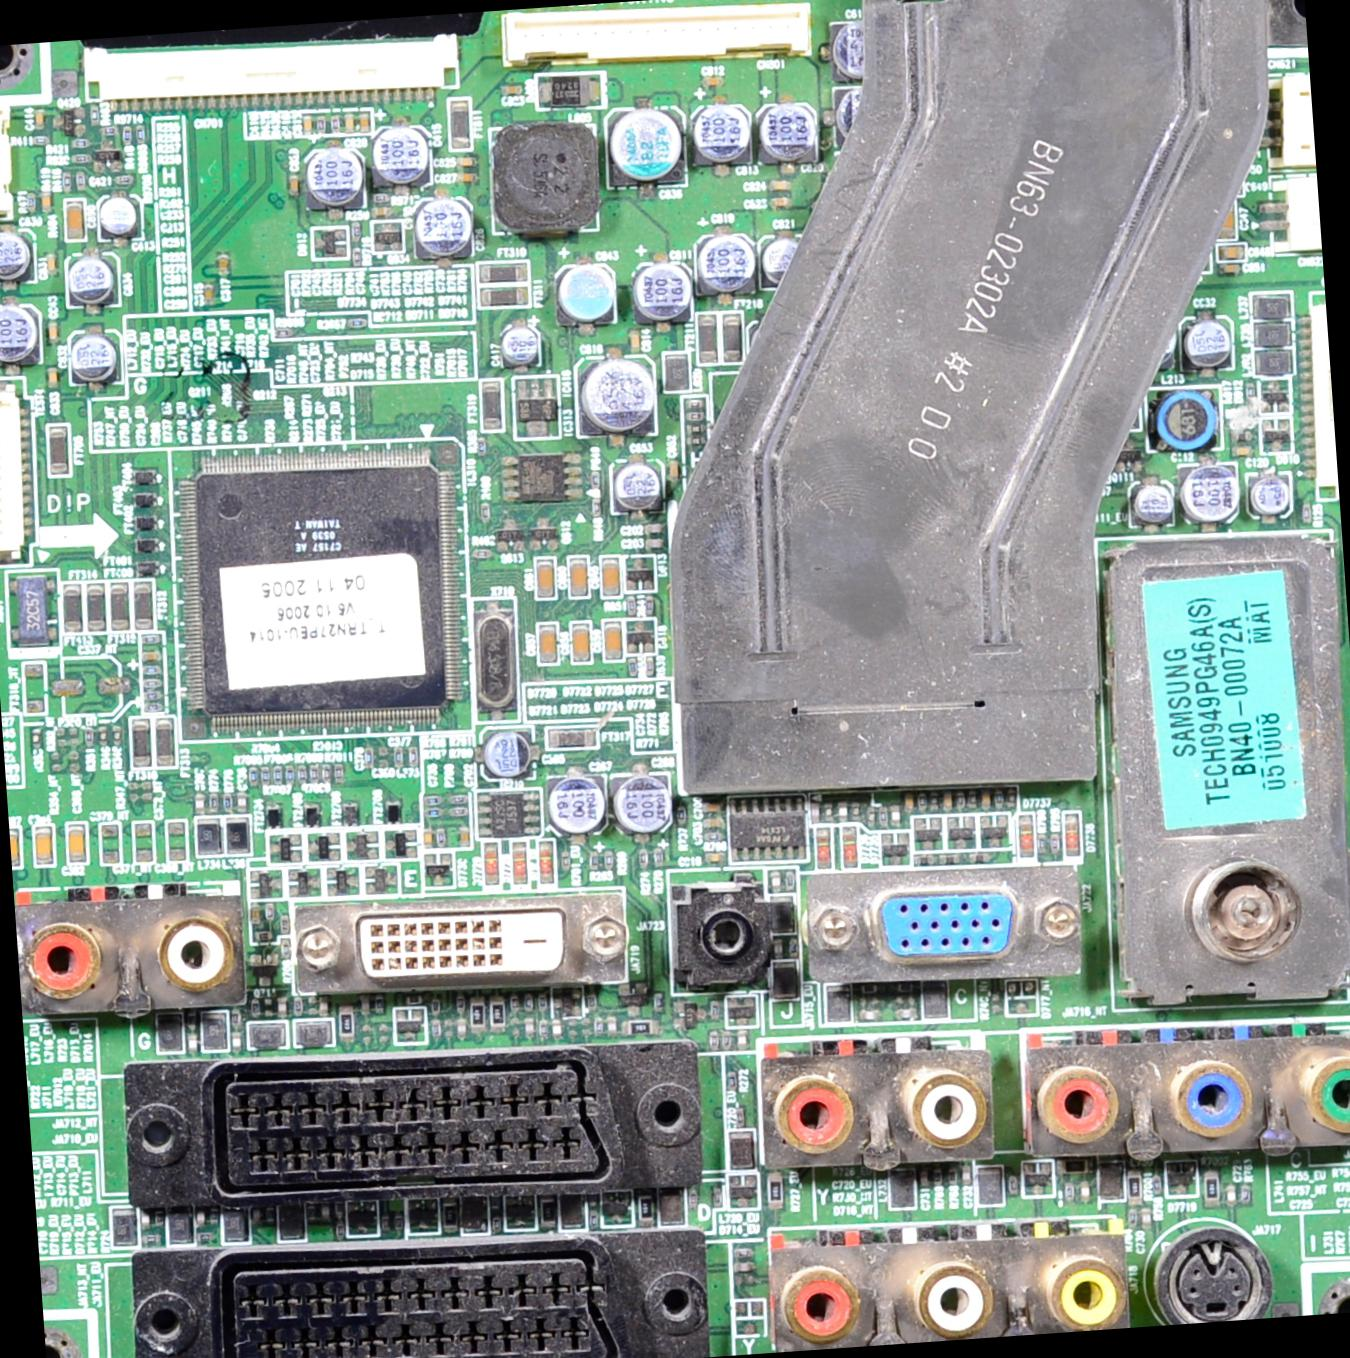Capacitor Jumper: (582, 361, 653, 427), (612, 108, 676, 179), (562, 263, 618, 319), (308, 150, 361, 204), (418, 200, 471, 255), (380, 127, 429, 186), (1186, 465, 1237, 518), (622, 778, 675, 827), (550, 777, 602, 825), (766, 108, 816, 157), (706, 239, 754, 288), (1183, 319, 1231, 366), (487, 728, 535, 775), (701, 105, 747, 155), (640, 263, 685, 312), (618, 463, 660, 505), (72, 258, 112, 301), (1135, 481, 1170, 524), (101, 197, 137, 237), (74, 331, 109, 374), (0, 233, 31, 280), (0, 309, 31, 356), (1254, 474, 1284, 511), (502, 329, 537, 357), (766, 233, 786, 278), (64, 198, 85, 240), (537, 625, 556, 660), (535, 562, 554, 595), (572, 623, 588, 657), (68, 824, 83, 860), (9, 825, 21, 866), (37, 826, 51, 863), (1219, 208, 1235, 237), (571, 563, 587, 592), (603, 625, 618, 657), (602, 565, 616, 594), (1219, 241, 1242, 257), (1235, 437, 1251, 459), (1220, 262, 1244, 275), (770, 176, 789, 190), (1260, 203, 1286, 213), (54, 681, 73, 695), (218, 254, 229, 276), (1262, 219, 1284, 230), (768, 195, 786, 208), (103, 679, 125, 689), (363, 746, 373, 767), (501, 84, 522, 94), (452, 158, 476, 167), (47, 320, 57, 340), (359, 111, 368, 130), (346, 110, 354, 135), (288, 174, 298, 192), (48, 369, 57, 388), (703, 818, 721, 827), (303, 113, 310, 135), (370, 205, 384, 216), (707, 853, 722, 865), (705, 78, 723, 87), (393, 748, 403, 764), (451, 172, 472, 179), (630, 330, 639, 348), (36, 110, 45, 127), (1142, 1212, 1151, 1227), (648, 524, 663, 533), (143, 651, 158, 659), (963, 1168, 970, 1184), (1226, 1186, 1234, 1202), (410, 747, 418, 763), (669, 461, 677, 475), (461, 827, 467, 846), (206, 282, 211, 304), (649, 539, 663, 547), (423, 829, 430, 842), (921, 1171, 927, 1186), (42, 192, 48, 207), (905, 793, 911, 808), (945, 792, 951, 806), (982, 792, 989, 804), (706, 804, 718, 810)
IC: (189, 451, 462, 727), (732, 798, 801, 857), (511, 459, 572, 496), (518, 380, 558, 435), (483, 789, 529, 835), (541, 74, 591, 105)
Resistor Jumper: (440, 1198, 455, 1232), (769, 1172, 783, 1206), (1204, 1172, 1216, 1203), (640, 1195, 652, 1217), (707, 1031, 720, 1051), (469, 1002, 480, 1023), (340, 1010, 350, 1034), (330, 114, 340, 135), (932, 1169, 943, 1187), (32, 731, 43, 749), (630, 1022, 654, 1030), (349, 317, 365, 329), (644, 594, 654, 613), (1051, 835, 1061, 855), (1131, 1180, 1142, 1197), (61, 172, 70, 190), (309, 763, 319, 782), (692, 412, 708, 423), (492, 1004, 502, 1022), (122, 125, 131, 145), (72, 139, 89, 148), (99, 127, 117, 136), (136, 124, 145, 142), (30, 136, 48, 145), (588, 851, 597, 869), (686, 424, 702, 434), (194, 794, 204, 810), (448, 808, 464, 818), (1038, 834, 1046, 855), (446, 795, 464, 804), (685, 397, 700, 407), (283, 767, 293, 782), (89, 108, 99, 122), (261, 767, 270, 783), (728, 1070, 736, 1088), (689, 439, 702, 449), (223, 795, 231, 810), (1066, 1182, 1076, 1195), (73, 156, 89, 163), (27, 194, 35, 210), (272, 329, 286, 338), (624, 597, 633, 611), (335, 766, 344, 779), (653, 851, 661, 865), (948, 1165, 954, 1184), (1242, 1185, 1250, 1200), (298, 766, 305, 780), (209, 794, 216, 809), (274, 766, 281, 783), (143, 636, 157, 643), (323, 766, 330, 779), (425, 809, 439, 816), (629, 658, 635, 674), (248, 767, 255, 783), (639, 850, 645, 866), (1153, 1176, 1160, 1191), (351, 224, 357, 239), (145, 679, 157, 686), (112, 728, 119, 743), (99, 730, 105, 745), (707, 832, 722, 839), (606, 853, 613, 866), (77, 172, 82, 189), (722, 1035, 728, 1049), (647, 659, 653, 673), (85, 728, 91, 742), (931, 793, 937, 806), (919, 794, 925, 808), (1009, 789, 1015, 803), (146, 665, 157, 673), (147, 693, 158, 700), (995, 793, 1003, 804), (1082, 1185, 1088, 1197), (147, 702, 159, 709), (969, 792, 975, 803), (1130, 1212, 1135, 1224), (354, 250, 359, 262), (425, 799, 436, 804), (958, 794, 963, 805), (319, 117, 321, 131)
Transistor: (623, 557, 655, 592), (497, 519, 527, 558), (673, 1001, 707, 1031), (270, 834, 302, 865), (52, 108, 87, 136), (982, 815, 1010, 848), (363, 863, 397, 892), (617, 984, 645, 1015), (1261, 381, 1289, 412), (1261, 421, 1292, 449), (627, 620, 654, 652), (602, 1192, 628, 1226), (316, 226, 344, 257), (948, 818, 975, 848), (880, 832, 907, 863), (349, 1200, 375, 1232), (912, 814, 937, 847), (530, 519, 558, 549), (291, 867, 321, 893), (729, 1174, 753, 1207), (308, 834, 336, 861), (504, 1197, 530, 1227), (1024, 1163, 1050, 1192), (375, 224, 402, 251), (96, 142, 121, 172), (397, 1013, 422, 1041), (350, 830, 380, 853), (424, 857, 449, 882), (253, 873, 279, 897), (329, 869, 356, 892), (386, 834, 414, 855), (727, 996, 749, 1022)
